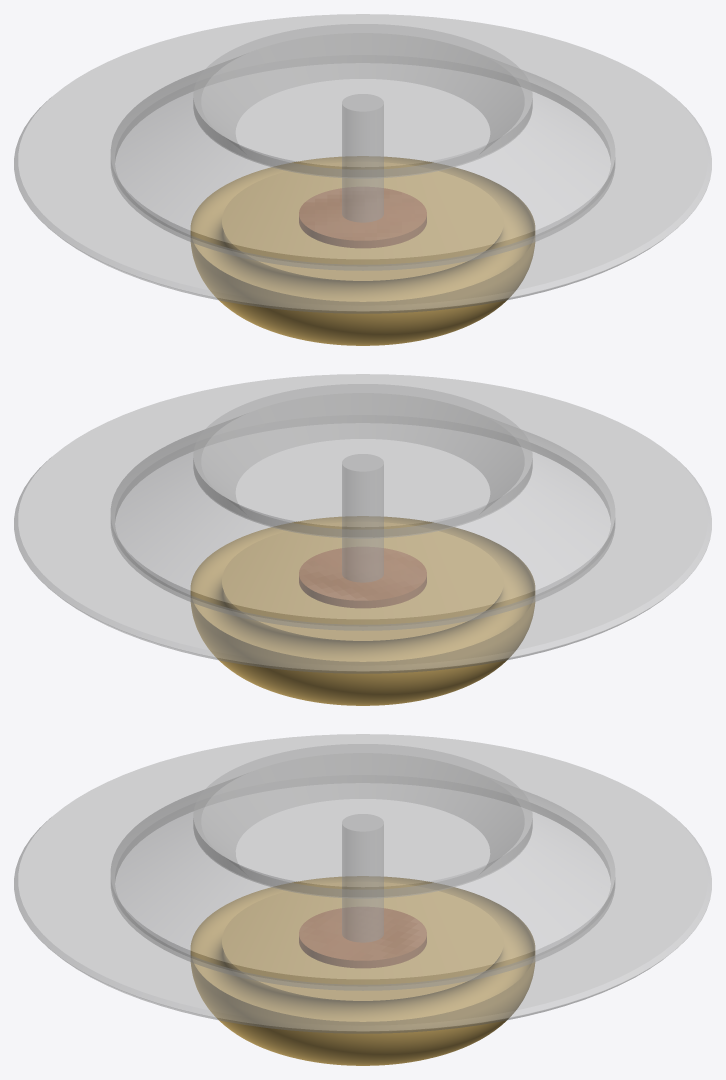
File: Lamp.glb
The picture shows the model from 3 angles, top to bottom: view 1: azimuth 30°, elevation 25°; view 2: azimuth 150°, elevation 25°; view 3: azimuth 270°, elevation 25°; orthographic projection.
Size of the model in its own units: 0.0166 by 0.0052 by 0.0166.
